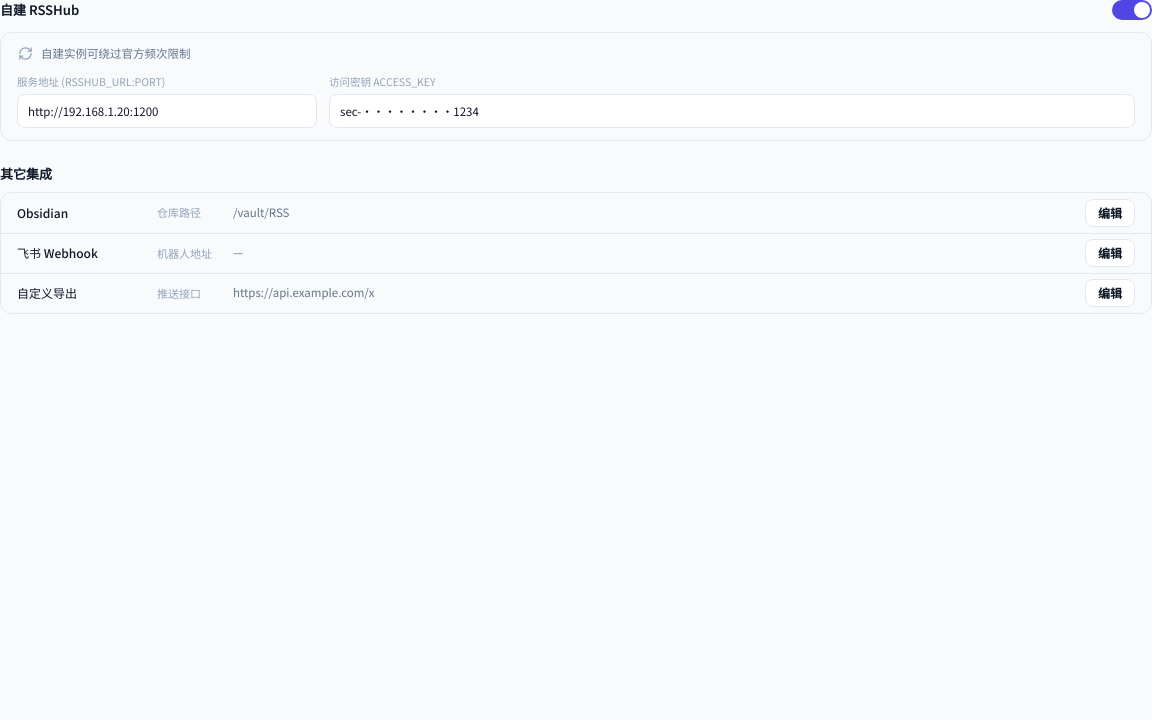
Test case: IntegrationsTab › opens the custom export dialog with endpoint and schema
Expected: the text "https://api.example.com/x" is shown, [233,284,375,300]
Click the button "编辑" in the row of "https://api.example.com/x".
click(1110, 293)  # box [1085,279,1135,307]
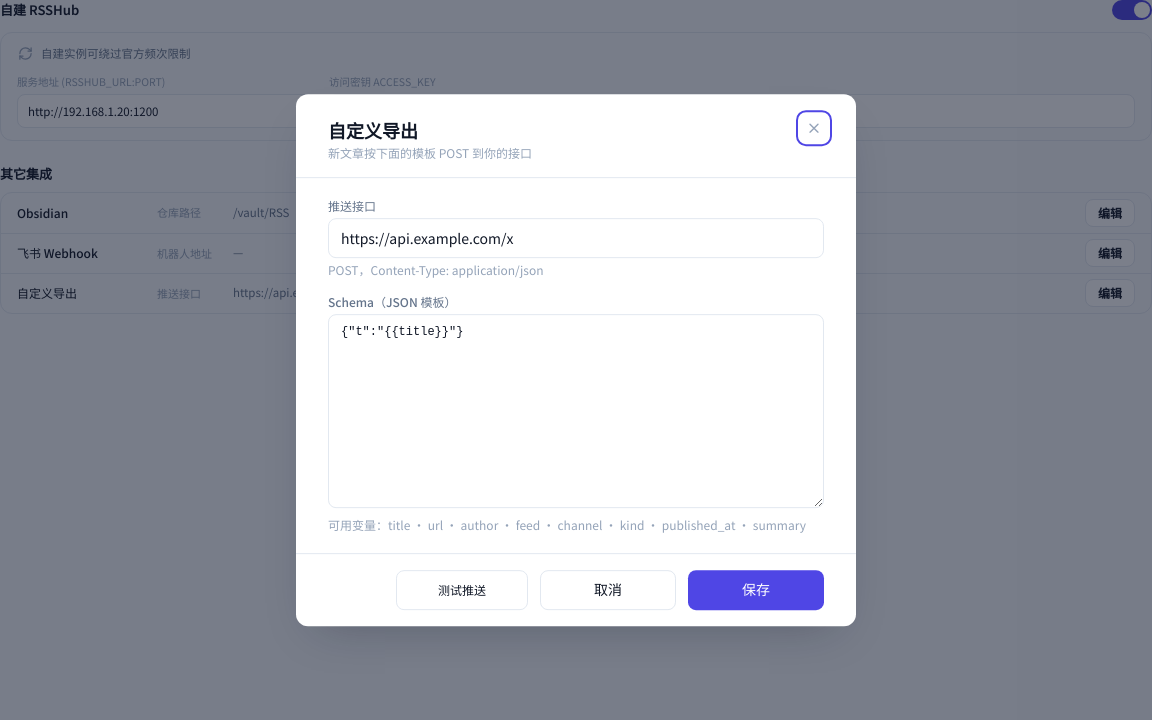
Now the text "Schema（JSON 模板）" is shown, box [328,293,456,310]
Now the field showing "https://api.example.com/x" is shown, box [328,218,824,258]
Now the text box showing "{\"t\":\"{{title}}\"}" is shown, box [328,314,824,508]
